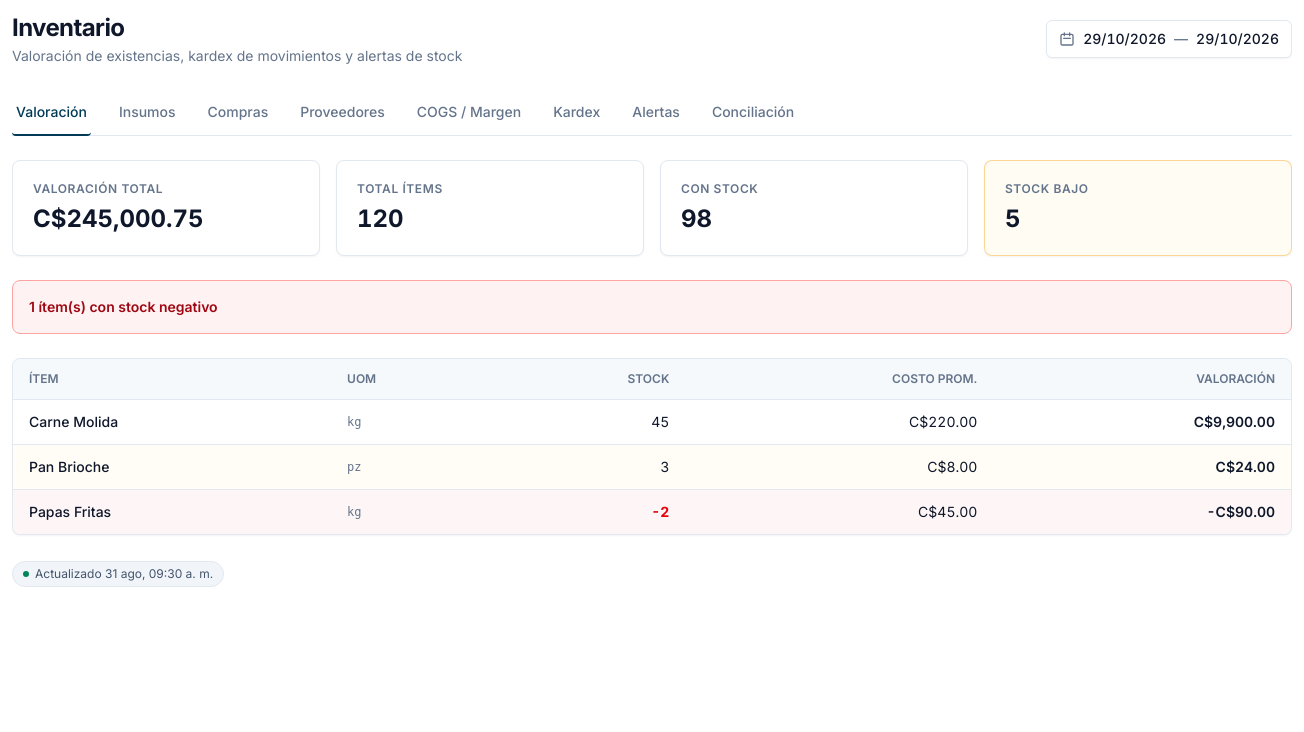
Test: W3 — InventoryPage › switches to alerts tab with severity badges
Click the tab "Alertas": click(656, 113) [628,90,684,136]
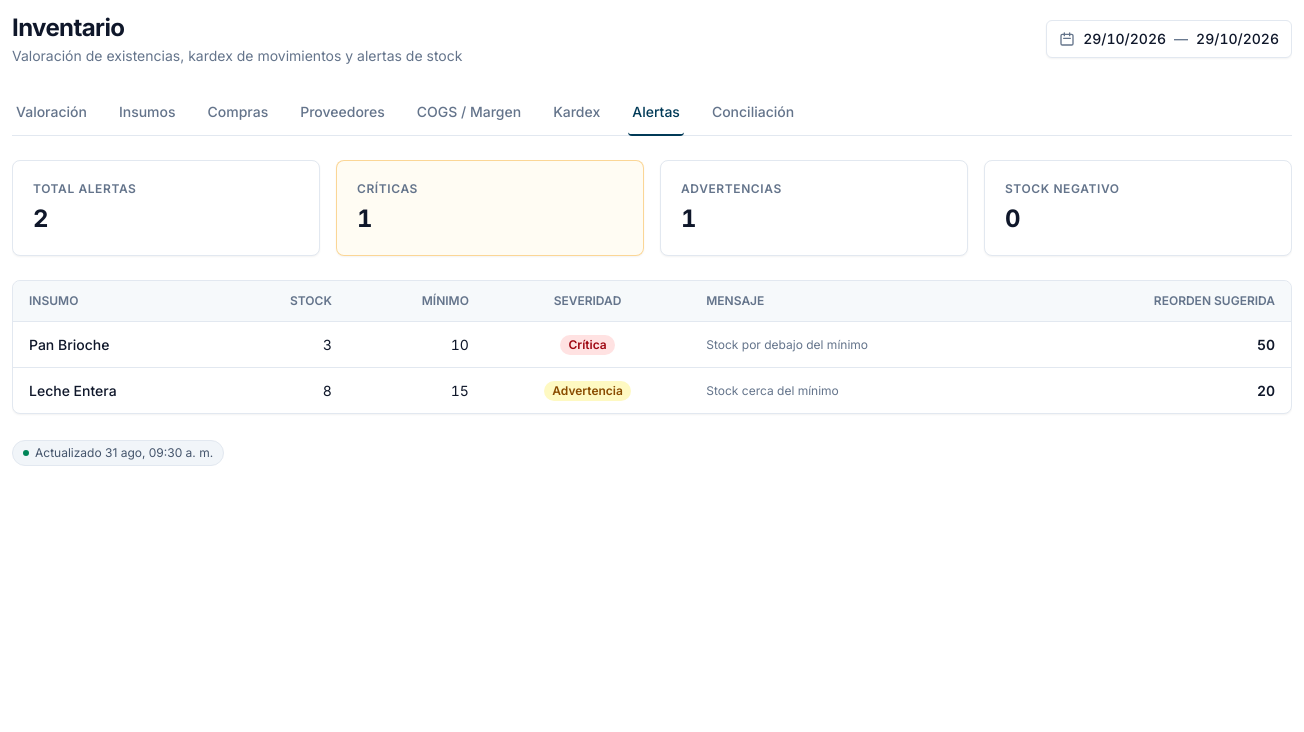
Expected: the text "Total Alertas" is shown, [33,181,136,196]
Expected: the text "Críticas" is shown, [357,181,418,196]
Expected: the text "Advertencias" is shown, [681,181,782,196]
